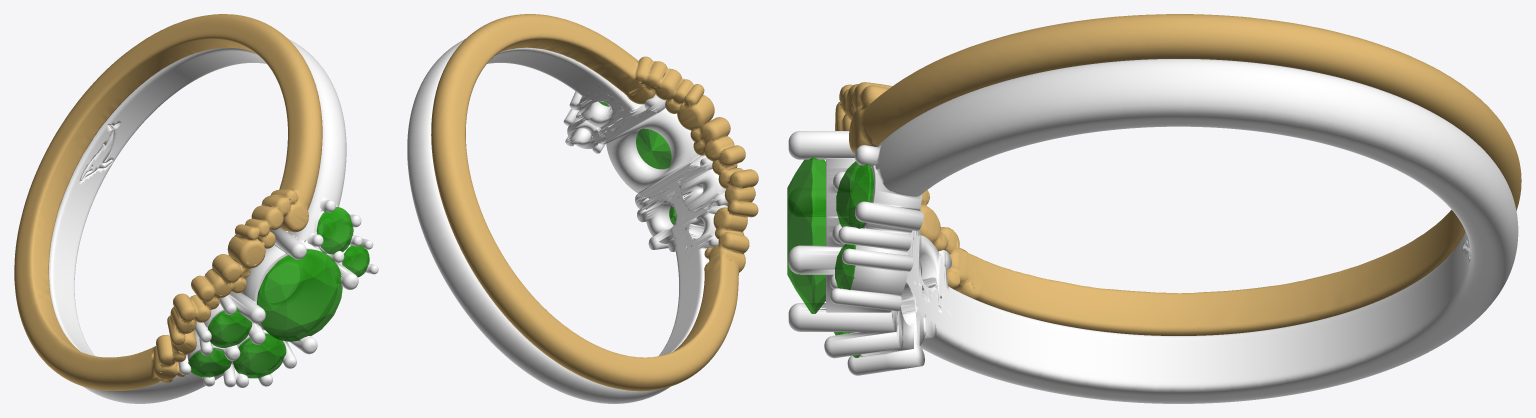
Rendered from ring_webgi.glb.
The picture shows the model from 3 angles, left to right: view 1: azimuth 30°, elevation 25°; view 2: azimuth 150°, elevation 25°; view 3: azimuth 270°, elevation 25°; orthographic projection. The views are drawn at different scales.
Parts seen in each view (by area): view 1: gold, silver, diamonds004, diamonds003, diamonds, diamonds001, diamonds002, diamonds005; view 2: gold, silver, diamonds004; view 3: silver, gold, diamonds004, diamonds.
Part boxes in pixels (box(x1,y1,x2,y2)): gold: box(14, 14, 322, 390); silver: box(49, 39, 378, 403); diamonds004: box(257, 249, 342, 341); diamonds003: box(233, 334, 286, 378); diamonds: box(316, 207, 353, 254); diamonds001: box(207, 308, 252, 347); diamonds002: box(188, 349, 231, 377); diamonds005: box(342, 245, 369, 277); gold: box(431, 14, 758, 391); silver: box(407, 39, 728, 403); diamonds004: box(636, 128, 671, 169); silver: box(788, 59, 1518, 403); gold: box(835, 14, 1521, 335); diamonds004: box(787, 157, 825, 313); diamonds: box(836, 161, 873, 228).
Size of the model in its own units: 1.89 by 2.24 by 2.81.
